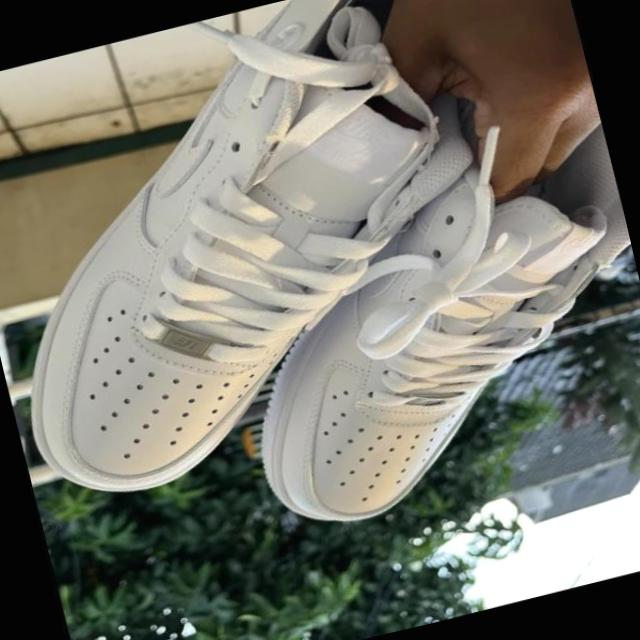nike_original_airforce: (0, 0, 565, 515), (189, 108, 640, 542)
